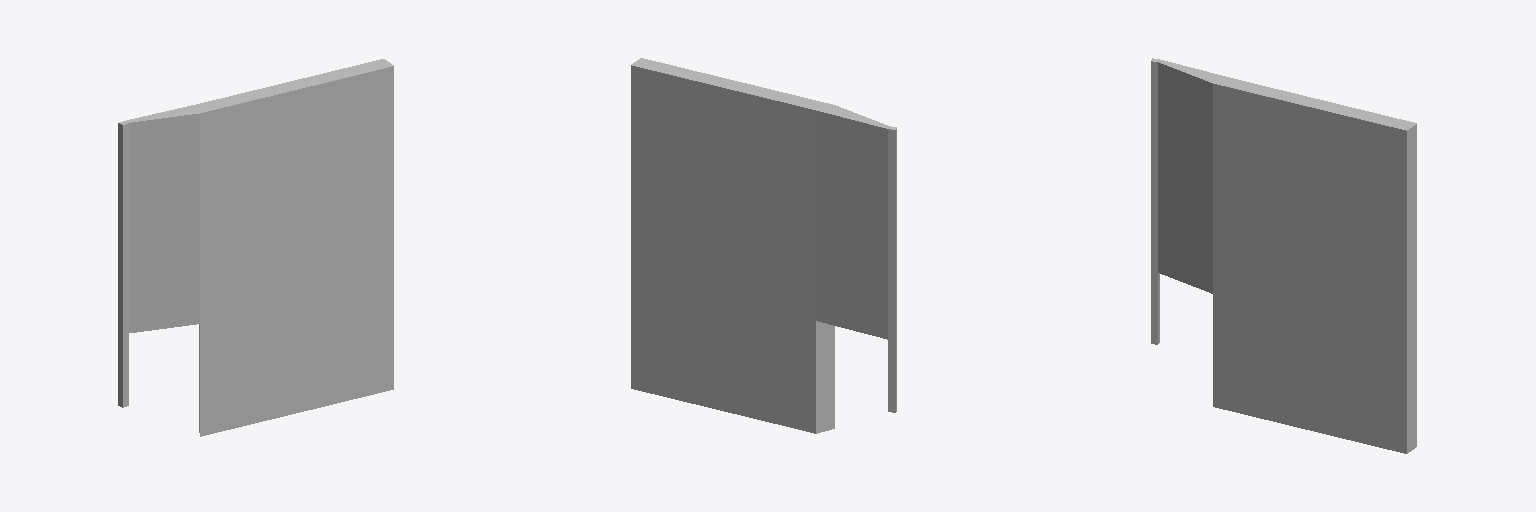
Rendered from Transition_Cover.obj.
3 renders of one model, left to right at view 1: azimuth 30°, elevation 25°; view 2: azimuth 150°, elevation 25°; view 3: azimuth 330°, elevation 25°, orthographic.
Parts seen in each view (by area): view 1: Transition_Cover; view 2: Transition_Cover; view 3: Transition_Cover.
Boxes of the visible parts, x1=… form: Transition_Cover: x1=118, y1=59, x2=393, y2=436; Transition_Cover: x1=631, y1=58, x2=896, y2=433; Transition_Cover: x1=1151, y1=58, x2=1416, y2=453.
Bounding box in the file's own units: 30.06 × 35 × 2.22.